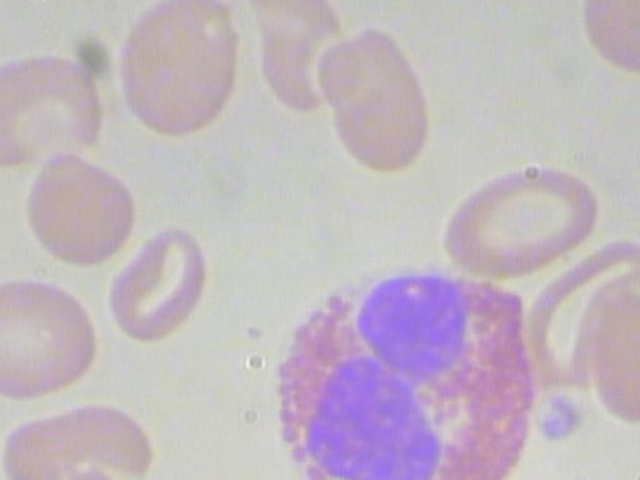Platelets: (533, 394, 585, 440)
RBC: (435, 159, 607, 280), (306, 26, 444, 176), (109, 0, 241, 146), (26, 146, 152, 269), (92, 226, 218, 348), (0, 278, 107, 407), (0, 45, 107, 168), (590, 282, 640, 432), (581, 0, 640, 82)
WBC: (249, 251, 540, 480)
